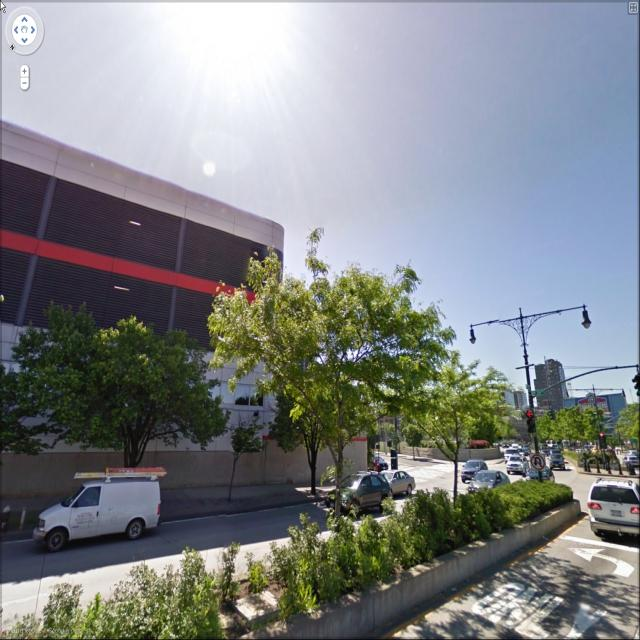b_1: (533, 342, 566, 415)
